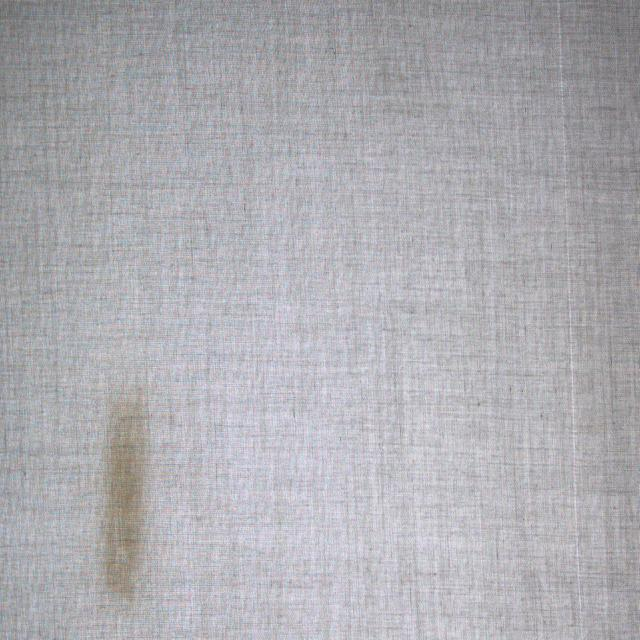dirty: (107, 410, 138, 591)
